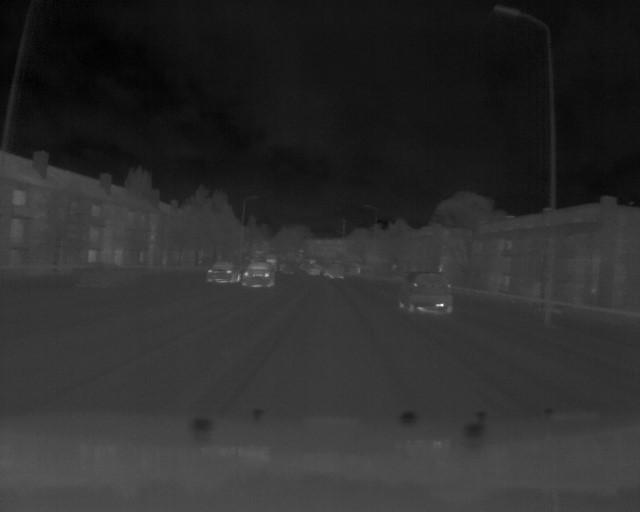car: (397, 268, 457, 318), (243, 257, 277, 291), (204, 258, 239, 287)
